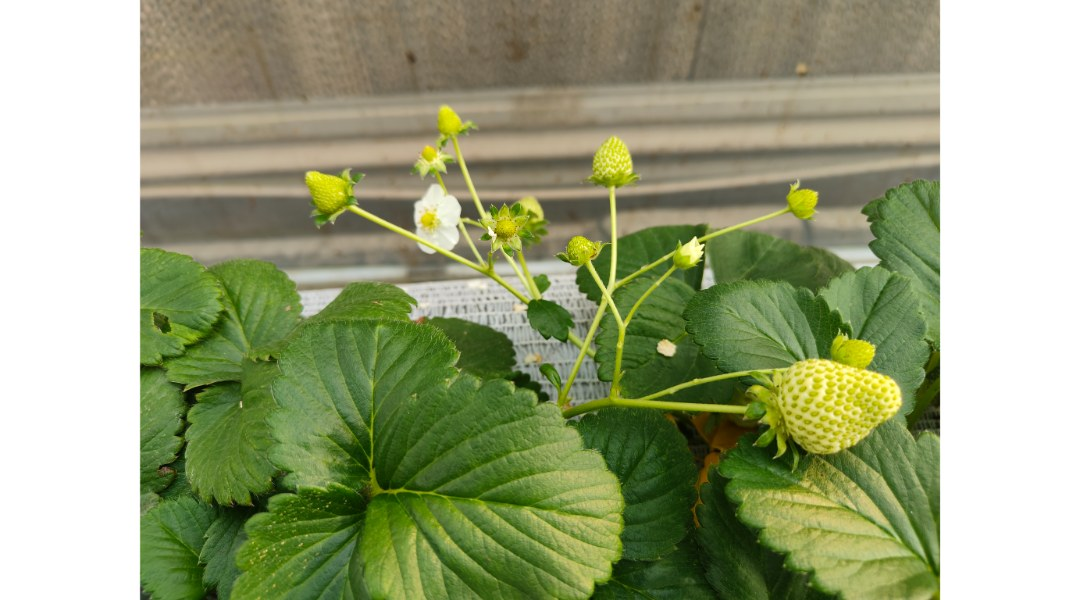berry: (752, 350, 907, 466), (288, 158, 367, 223), (585, 128, 647, 191), (829, 317, 879, 373), (775, 179, 831, 221), (483, 200, 529, 251), (548, 230, 604, 265), (433, 108, 470, 146), (408, 140, 449, 174)
flower: (408, 177, 466, 258), (666, 228, 715, 271)
strain: (352, 210, 466, 280), (622, 393, 770, 426), (645, 369, 785, 392), (603, 179, 619, 280), (722, 209, 787, 233), (491, 275, 526, 316), (604, 332, 626, 392)
